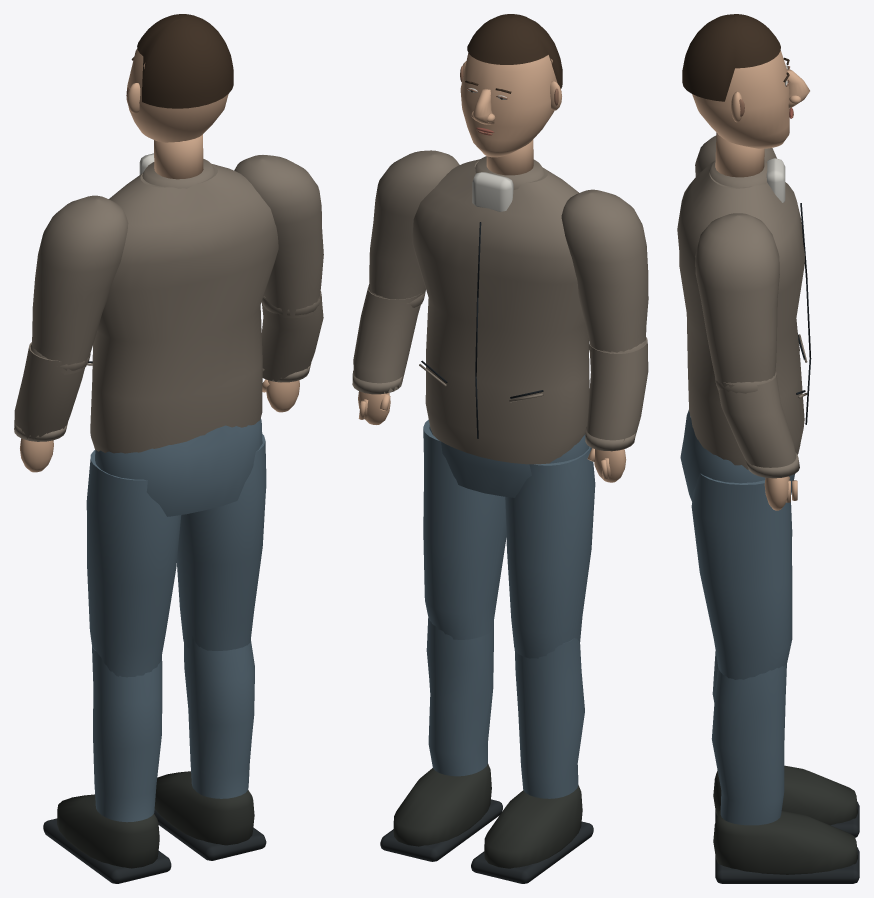
File: pedestrian.glb
3 renders of one model, left to right at view 1: azimuth 30°, elevation 25°; view 2: azimuth 150°, elevation 25°; view 3: azimuth 270°, elevation 25°, orthographic. The views are drawn at different scales.
Parts seen in each view (by area): view 1: torso_Coat fabric, leg_L_Denim trousers, head_Detailed human vertex surfaces, leg_R_Denim trousers, arm_L_Coat fabric, knee_L_Denim trousers, knee_R_Denim trousers, torso_Denim trousers, arm_R_Coat fabric, knee_L_Detailed human vertex surfaces, knee_R_Detailed human vertex surfaces, elbow_L_Coat fabric (+3 smaller); view 2: torso_Coat fabric, leg_L_Denim trousers, leg_R_Denim trousers, head_Detailed human vertex surfaces, arm_L_Coat fabric, knee_L_Denim trousers, knee_R_Denim trousers, arm_R_Coat fabric, knee_R_Detailed human vertex surfaces, knee_L_Detailed human vertex surfaces, elbow_L_Coat fabric, elbow_R_Coat fabric (+4 smaller); view 3: leg_R_Denim trousers, torso_Coat fabric, head_Detailed human vertex surfaces, arm_R_Coat fabric, knee_R_Denim trousers, knee_R_Detailed human vertex surfaces, elbow_R_Coat fabric, knee_L_Detailed human vertex surfaces, torso_Denim trousers, torso_Detailed human vertex surfaces, elbow_R_Detailed human vertex surfaces, arm_L_Coat fabric.
Boxes of the visible parts, box(x1,y1,x2,y2) form: torso_Coat fabric: box(87, 159, 278, 453); leg_L_Denim trousers: box(86, 450, 181, 677); head_Detailed human vertex surfaces: box(126, 14, 233, 179); leg_R_Denim trousers: box(177, 434, 266, 650); arm_L_Coat fabric: box(31, 195, 128, 374); knee_L_Denim trousers: box(92, 645, 162, 822); knee_R_Denim trousers: box(184, 636, 254, 798); torso_Denim trousers: box(95, 418, 262, 516); arm_R_Coat fabric: box(234, 155, 323, 318); knee_L_Detailed human vertex surfaces: box(43, 794, 171, 883); knee_R_Detailed human vertex surfaces: box(154, 771, 266, 860); elbow_L_Coat fabric: box(14, 342, 90, 441); torso_Coat fabric: box(412, 156, 589, 464); leg_L_Denim trousers: box(505, 446, 595, 658); leg_R_Denim trousers: box(423, 420, 506, 639); head_Detailed human vertex surfaces: box(460, 14, 562, 175); arm_L_Coat fabric: box(561, 189, 648, 352); knee_L_Denim trousers: box(514, 638, 584, 798); knee_R_Denim trousers: box(426, 616, 493, 776); arm_R_Coat fabric: box(369, 150, 459, 309); knee_R_Detailed human vertex surfaces: box(380, 764, 502, 861); knee_L_Detailed human vertex surfaces: box(471, 785, 593, 883); elbow_L_Coat fabric: box(585, 337, 648, 451); elbow_R_Coat fabric: box(352, 284, 425, 394); leg_R_Denim trousers: box(691, 473, 792, 679); torso_Coat fabric: box(677, 160, 807, 469); head_Detailed human vertex surfaces: box(682, 14, 809, 177); arm_R_Coat fabric: box(695, 213, 779, 391); knee_R_Denim trousers: box(711, 664, 786, 825); knee_R_Detailed human vertex surfaces: box(713, 810, 859, 883); elbow_R_Coat fabric: box(715, 371, 799, 478); knee_L_Detailed human vertex surfaces: box(713, 765, 859, 837); torso_Denim trousers: box(680, 410, 794, 501); torso_Detailed human vertex surfaces: box(766, 158, 811, 424); elbow_R_Detailed human vertex surfaces: box(764, 476, 797, 510); arm_L_Coat fabric: box(695, 135, 776, 176).
Bounding box in the file's own units: 0.6405 × 1.77 × 0.3513.
